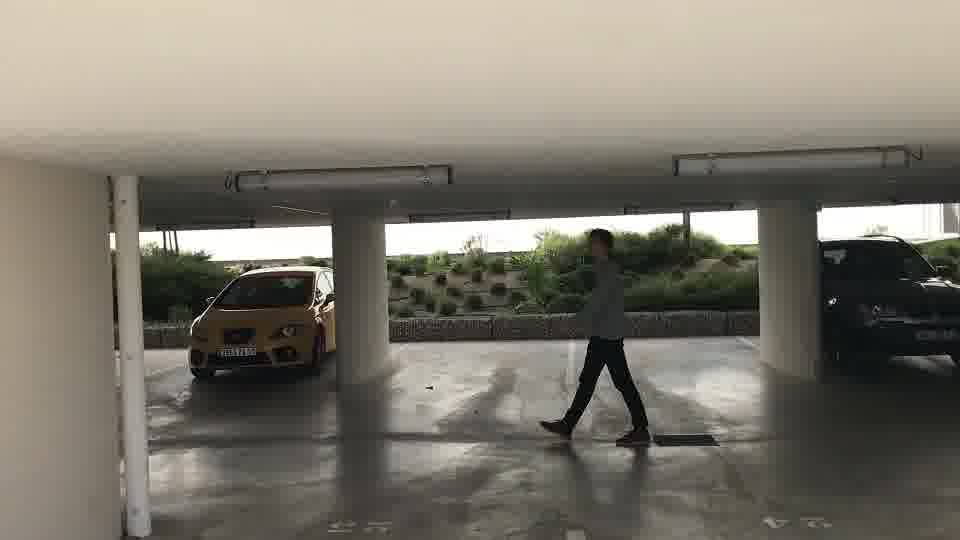jugador: (528, 228, 665, 452)
